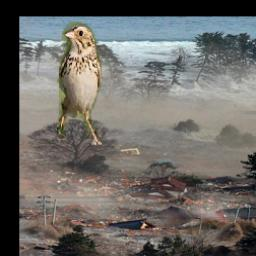Sparrow: (57, 22, 102, 145)
